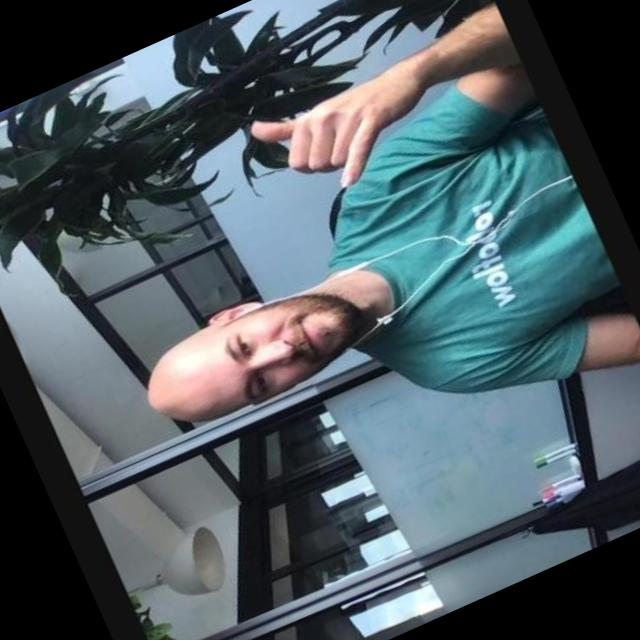bareface: (138, 276, 366, 451)
